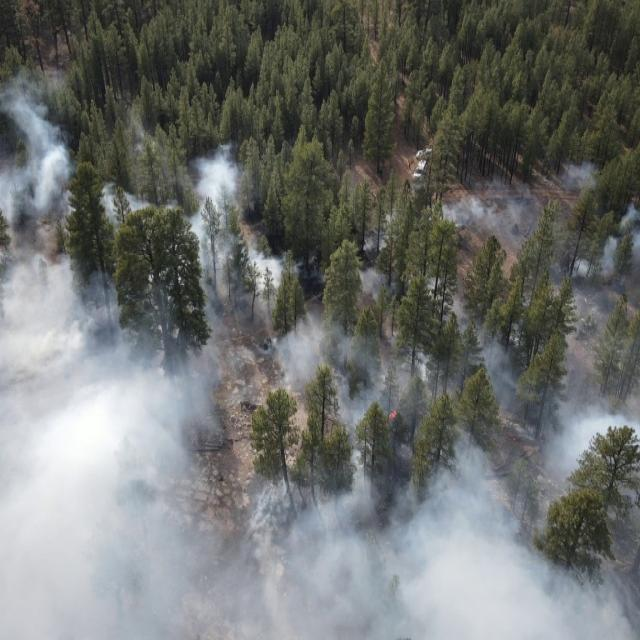fire: (381, 398, 408, 429)
smoke: (214, 381, 640, 640), (0, 239, 214, 639), (186, 219, 328, 382), (440, 186, 640, 272), (0, 63, 80, 241), (101, 128, 246, 222), (540, 273, 640, 387), (427, 274, 517, 384), (357, 206, 393, 383), (394, 334, 426, 380), (556, 159, 600, 186)
